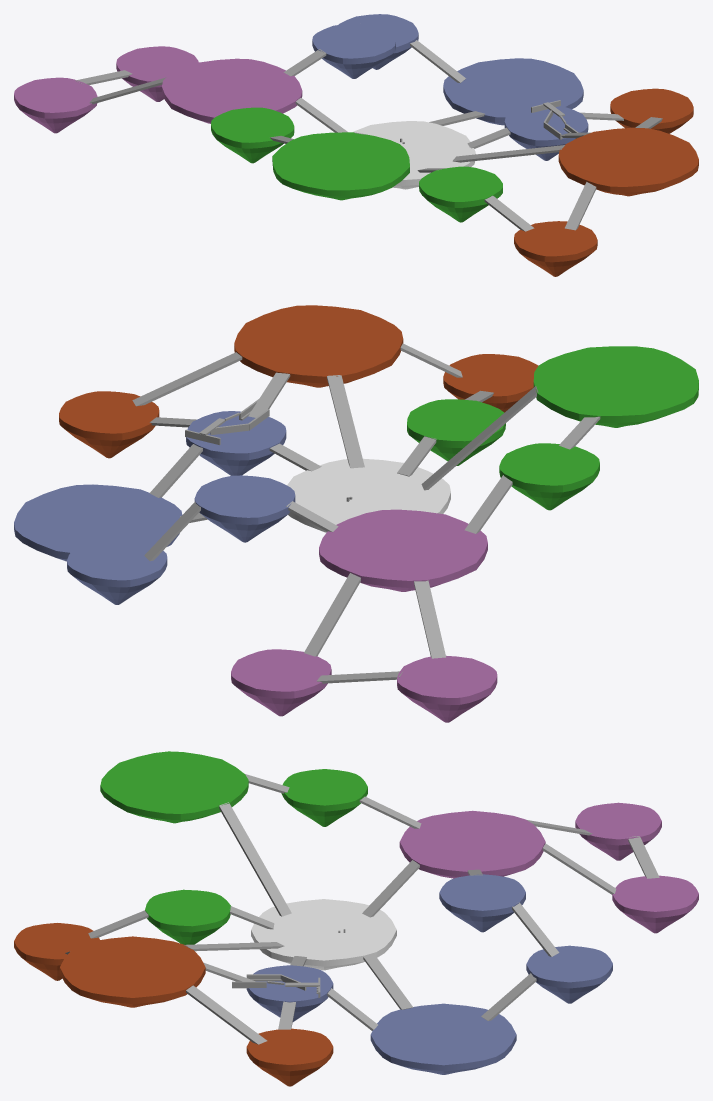
Rendered from leveltest.fbx.
3 views of the same model, one above another, from view 1: azimuth 30°, elevation 25°; view 2: azimuth 150°, elevation 25°; view 3: azimuth 270°, elevation 25° (orthographic). The views are drawn at different scales.
Parts seen in each view (by area): view 1: pCube4, pCube1, pCube3, pCube2, pCube13, pCube11, pCube5, pCube9, pCube10, pCube8, pCube6, pCube7 (+9 smaller); view 2: pCube4, pCube1, pCube3, pCube2, pCube13, pCube11, pCube5, pCube10, pCube23, pCube6, pCube12, pCube9 (+13 smaller); view 3: pCube1, pCube4, pCube2, pCube3, pCube13, pCube5, pCube23, pCube9, pCube10, pCube6, pCube12, pCube11 (+14 smaller).
Part boxes in pixels (left/top/right/bottom): pCube4: left=272, top=132, right=409, bottom=200; pCube1: left=558, top=127, right=698, bottom=196; pCube3: left=162, top=58, right=302, bottom=123; pCube2: left=443, top=58, right=583, bottom=125; pCube13: left=353, top=121, right=475, bottom=189; pCube11: left=14, top=77, right=97, bottom=133; pCube5: left=312, top=23, right=395, bottom=78; pCube9: left=419, top=166, right=502, bottom=222; pCube10: left=211, top=107, right=294, bottom=163; pCube8: left=514, top=221, right=597, bottom=276; pCube6: left=610, top=88, right=693, bottom=133; pCube7: left=504, top=106, right=588, bottom=160; pCube4: left=533, top=346, right=698, bottom=427; pCube1: left=234, top=305, right=403, bottom=387; pCube3: left=319, top=509, right=487, bottom=591; pCube2: left=14, top=484, right=182, bottom=561; pCube13: left=287, top=458, right=450, bottom=532; pCube11: left=397, top=655, right=497, bottom=722; pCube5: left=194, top=475, right=295, bottom=542; pCube10: left=499, top=443, right=599, bottom=510; pCube23: left=231, top=649, right=331, bottom=716; pCube6: left=59, top=391, right=159, bottom=458; pCube12: left=67, top=538, right=167, bottom=604; pCube9: left=407, top=399, right=505, bottom=465; pCube1: left=59, top=936, right=205, bottom=1007; pCube4: left=100, top=751, right=248, bottom=823; pCube2: left=370, top=1003, right=516, bottom=1074; pCube3: left=399, top=810, right=545, bottom=878; pCube13: left=251, top=899, right=396, bottom=970; pCube5: left=439, top=874, right=525, bottom=932; pCube23: left=612, top=875, right=698, bottom=933; pCube9: left=145, top=889, right=231, bottom=944; pCube10: left=281, top=769, right=367, bottom=826; pCube6: left=246, top=1028, right=333, bottom=1086; pCube12: left=526, top=945, right=612, bottom=1003; pCube11: left=575, top=802, right=661, bottom=860.
Size of the model in its own units: 15.71 by 3.88 by 17.51.
